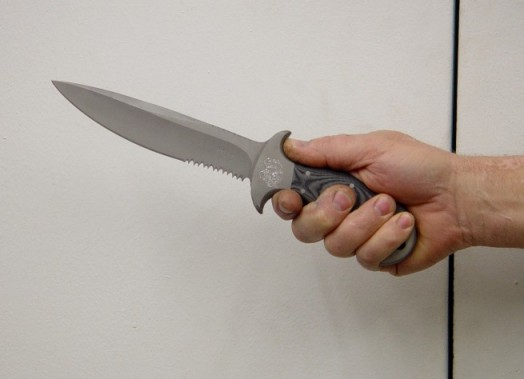knife: (43, 74, 397, 270)
